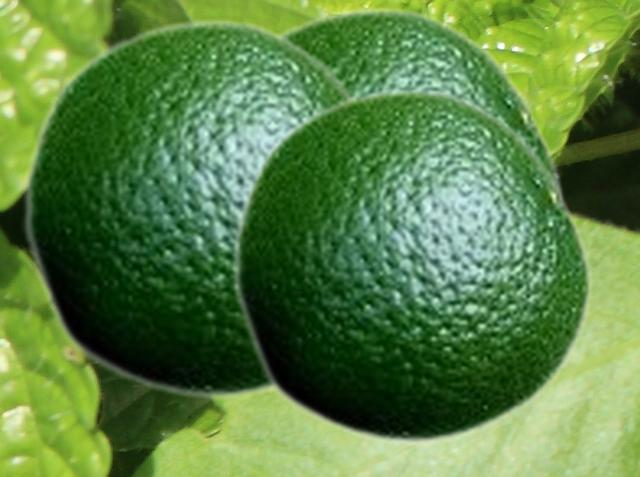calamansi: (230, 86, 593, 446), (21, 17, 357, 401), (275, 5, 565, 196)
